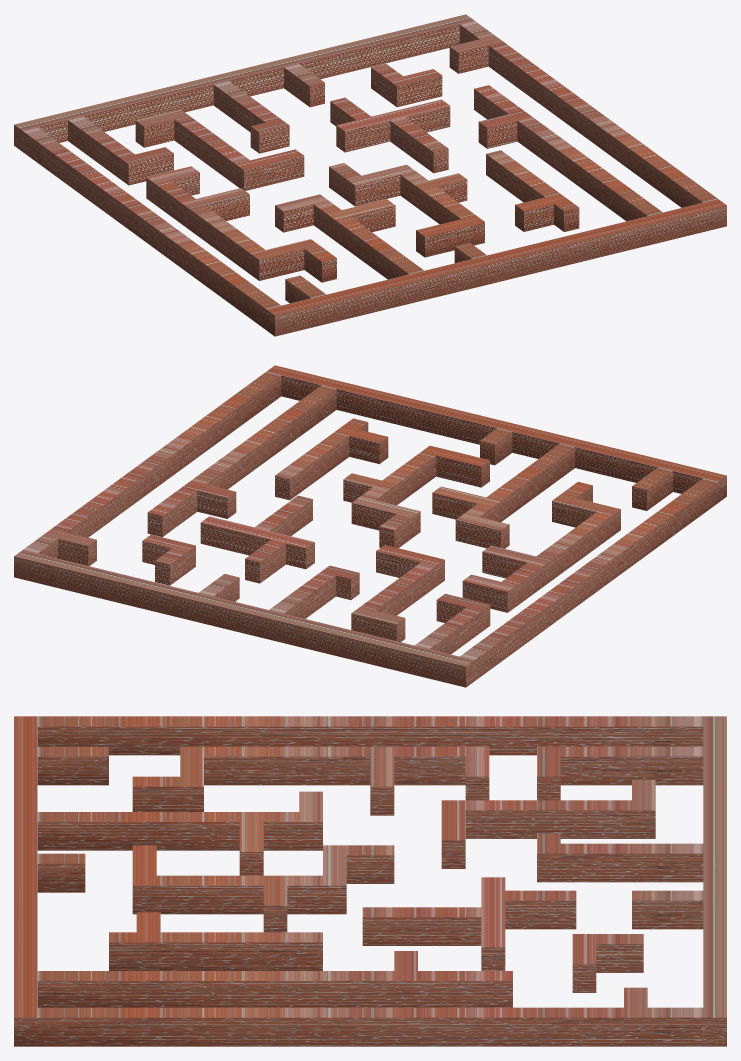
Rendered from Maze - Copy.fbx.
The picture shows the model from 3 angles, top to bottom: view 1: azimuth 30°, elevation 25°; view 2: azimuth 150°, elevation 25°; view 3: azimuth 270°, elevation 25°; orthographic projection. The views are drawn at different scales.
Visible parts, largest first — view 1: pasted__pCube17, pasted__pCube16, pasted__pCube15, pasted__pCube18, pasted__pCube43, pasted__pCube8, pasted__pCube42, pasted__pCube20, pasted__pCube31, pasted__pCube11, pasted__pCube46, pasted__pCube6 (+46 smaller); view 2: pasted__pCube16, pasted__pCube17, pasted__pCube15, pasted__pCube18, pasted__pCube42, pasted__pCube27, pasted__pCube49, pasted__pCube6, pasted__pCube26, pasted__pCube44, pasted__pCube51, pasted__pCube11 (+47 smaller); view 3: pasted__pCube18, pasted__pCube15, pasted__pCube17, pasted__pCube16, pasted__pCube23, pasted__pCube14, pasted__pCube24, pasted__pCube26, pasted__pCube28, pasted__pCube37, pasted__pCube44, pasted__pCube45 (+41 smaller).
Boxes of the visible parts, x1,y1,x2,y2 form: pasted__pCube17: (267,199,726,335); pasted__pCube16: (14,14,473,151); pasted__pCube15: (14,121,289,336); pasted__pCube18: (452,14,726,229); pasted__pCube43: (336,114,390,152); pasted__pCube8: (250,242,304,280); pasted__pCube42: (416,219,469,257); pasted__pCube20: (120,147,173,185); pasted__pCube31: (251,149,304,187); pasted__pCube11: (329,163,370,206); pasted__pCube46: (407,129,448,173); pasted__pCube6: (371,63,411,107); pasted__pCube16: (14,550,474,686); pasted__pCube17: (267,365,726,496); pasted__pCube15: (451,472,726,687); pasted__pCube18: (14,365,287,579); pasted__pCube42: (436,449,489,487); pasted__pCube27: (462,574,516,612); pasted__pCube49: (200,516,253,554); pasted__pCube6: (155,542,195,585); pasted__pCube26: (632,467,672,510); pasted__pCube44: (245,540,285,583); pasted__pCube51: (275,456,315,500); pasted__pCube11: (379,507,420,548); pasted__pCube18: (14,1007,726,1046); pasted__pCube15: (14,716,726,755); pasted__pCube17: (14,716,37,1046); pasted__pCube16: (703,716,726,1046); pasted__pCube23: (275,746,346,785); pasted__pCube14: (560,746,631,785); pasted__pCube24: (204,746,275,785); pasted__pCube26: (37,746,108,785); pasted__pCube28: (632,843,703,882); pasted__pCube37: (560,843,631,882); pasted__pCube44: (505,890,576,929); pasted__pCube45: (632,890,703,929).
Size of the model in its own units: 90 by 4 by 90.
Materials: 1 (1 with a texture image).
